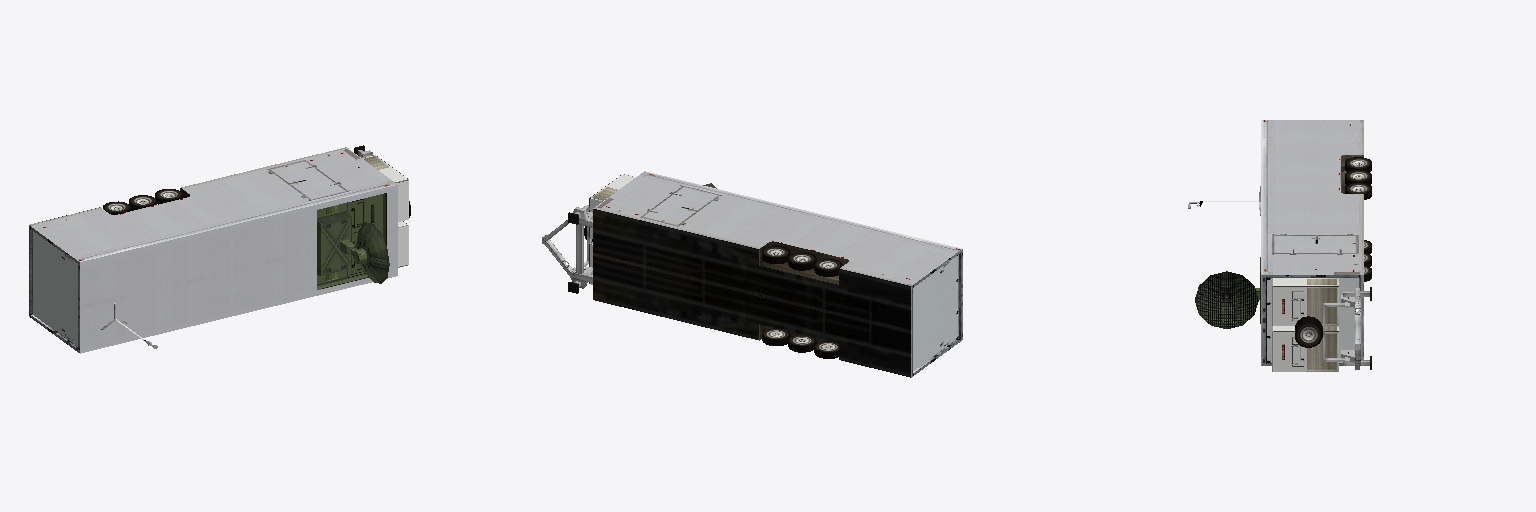
The picture shows the model from 3 angles: view 1: azimuth 30°, elevation 25°; view 2: azimuth 150°, elevation 25°; view 3: azimuth 270°, elevation 25°; orthographic projection.
Visible parts, largest first — view 1: control, antenna; view 2: control; view 3: control, antenna.
Boxes of the visible parts, x1,y1,x2,y2 form: control: [29, 145, 410, 353]; antenna: [351, 222, 389, 283]; control: [542, 171, 962, 377]; control: [1255, 120, 1371, 371]; antenna: [1195, 271, 1258, 328].
Size of the model in its own units: 1 by 0.2355 by 0.4317.
1 materials, 1 textured.